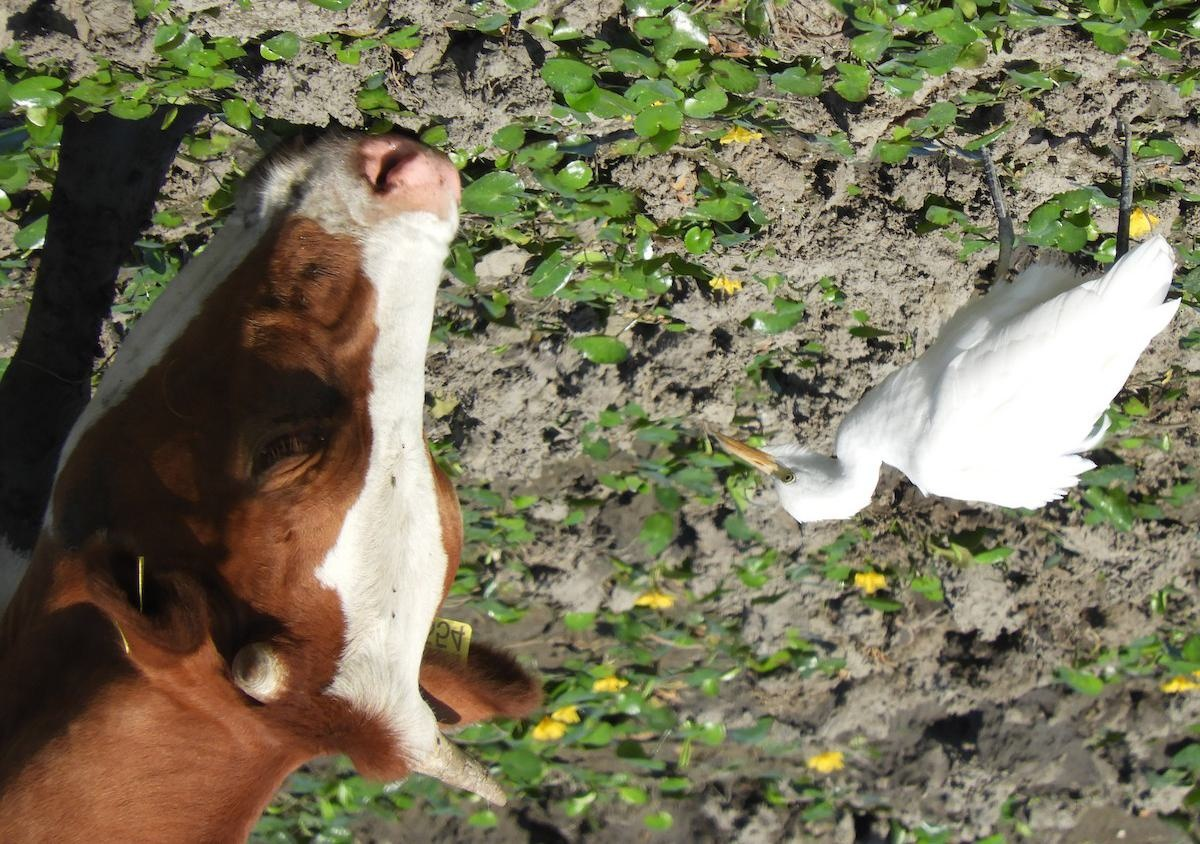egret: (704, 146, 1200, 555)
